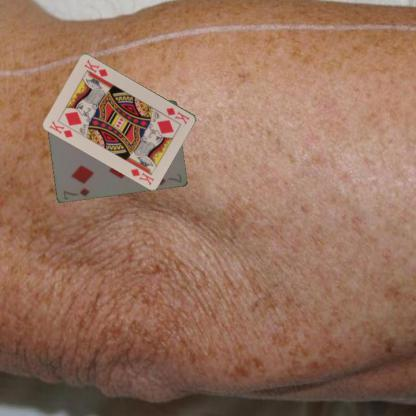7d: (61, 185, 91, 200)
Kd: (164, 104, 190, 126), (47, 118, 74, 139)
